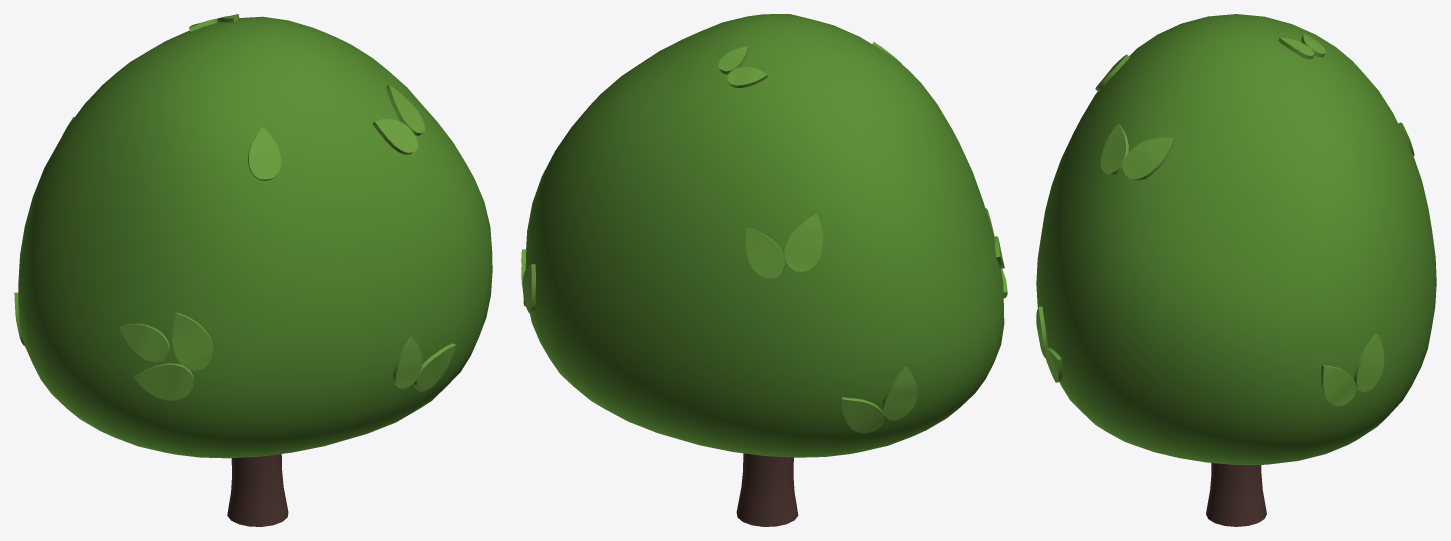
The model's file is deciduous_tree.glb.
The picture shows the model from 3 angles, left to right: view 1: azimuth 30°, elevation 25°; view 2: azimuth 150°, elevation 25°; view 3: azimuth 270°, elevation 25°; orthographic projection.
Parts seen in each view (by area): view 1: Cube.176, Circle.2067; view 2: Cube.176, Circle.2067; view 3: Cube.176, Circle.2067.
Boxes of the visible parts, left/top/right/bottom form: Cube.176: left=18, top=16, right=492, bottom=526; Circle.2067: left=14, top=14, right=455, bottom=400; Cube.176: left=525, top=14, right=1004, bottom=526; Circle.2067: left=521, top=42, right=1007, bottom=433; Cube.176: left=1036, top=14, right=1436, bottom=526; Circle.2067: left=1036, top=33, right=1414, bottom=406.
Size of the model in its own units: 1.91 by 2.09 by 1.59.
1 material, 1 textured.
